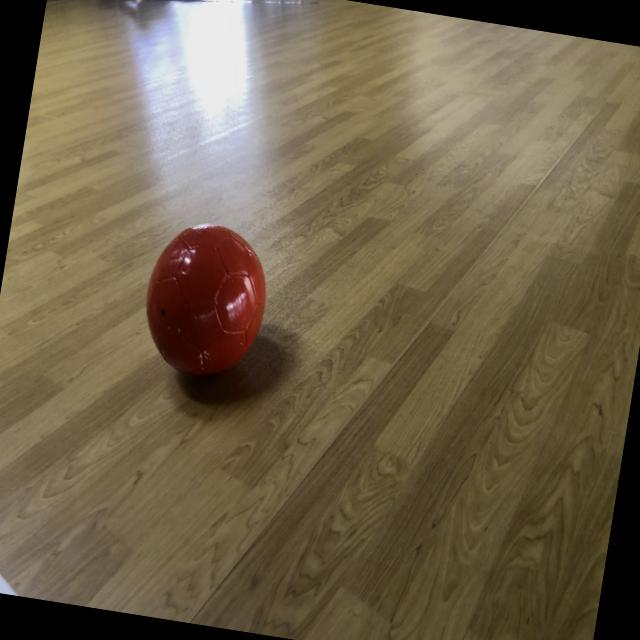red_ball: (135, 215, 274, 388)
